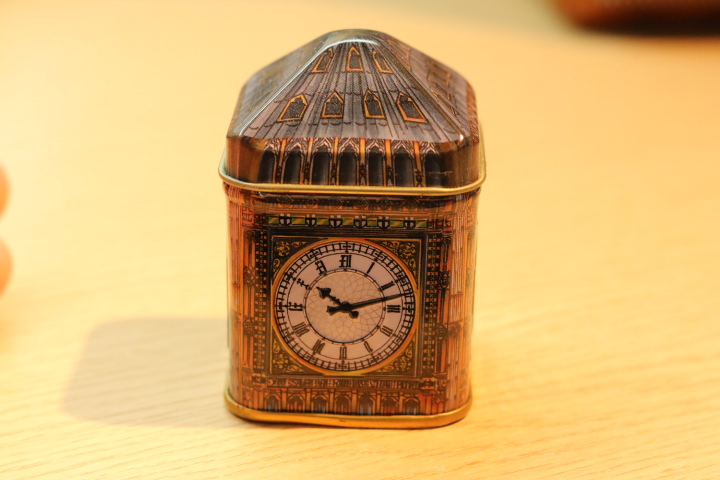Big Ben: (208, 19, 522, 442)
